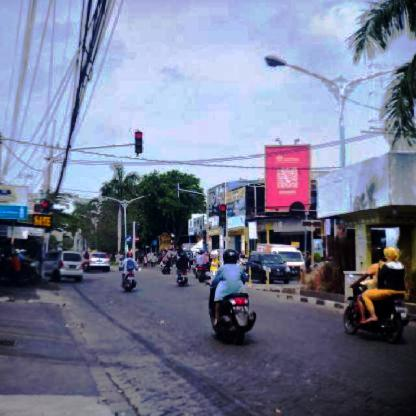Traffic Light -Red-: (218, 203, 227, 227), (135, 130, 143, 152)
